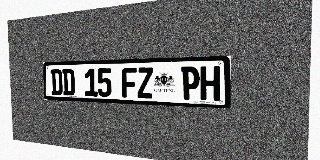1: (84, 68, 98, 97)
5: (97, 68, 112, 97)
D: (62, 69, 75, 96), (51, 69, 63, 95)
F: (122, 68, 137, 98)
H: (200, 66, 220, 101)
P: (181, 66, 200, 100)
Z: (137, 67, 153, 98)
